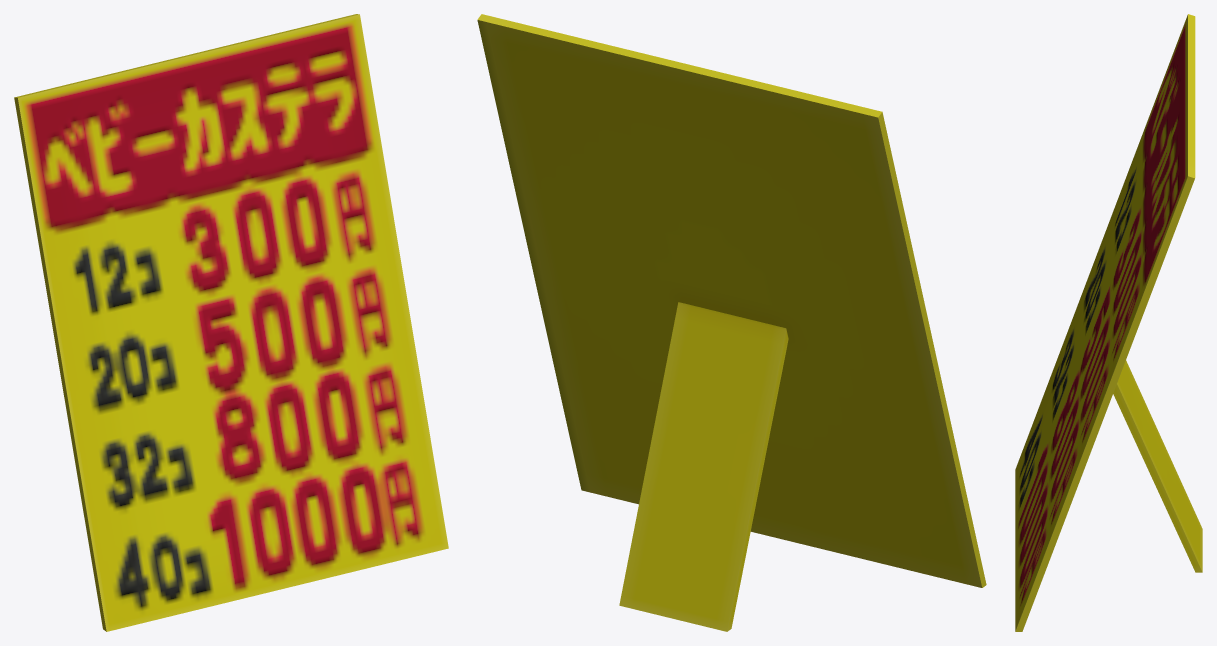
File: jsf_Flyer_BabyCastella_15.fbx
3 renders of one model, left to right at view 1: azimuth 30°, elevation 25°; view 2: azimuth 150°, elevation 25°; view 3: azimuth 270°, elevation 25°, orthographic. The views are drawn at different scales.
Visible parts, largest first — view 1: jsf_Flyer_BabyCastella_15; view 2: jsf_Flyer_BabyCastella_15; view 3: jsf_Flyer_BabyCastella_15.
Part boxes in pixels (bbox=[...]): jsf_Flyer_BabyCastella_15: bbox=[14, 14, 448, 631]; jsf_Flyer_BabyCastella_15: bbox=[477, 14, 986, 631]; jsf_Flyer_BabyCastella_15: bbox=[1015, 14, 1202, 631].
Size of the model in its own units: 23.39 by 30.64 by 11.42.
